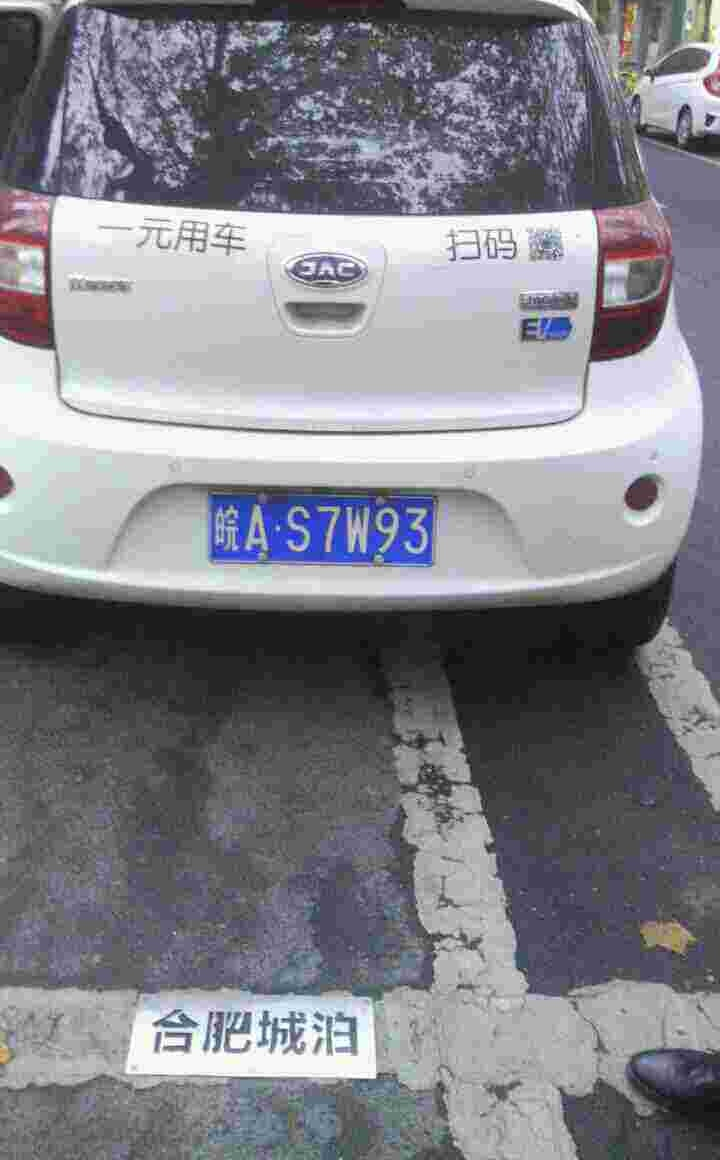license_plate: (213, 501, 436, 567)
